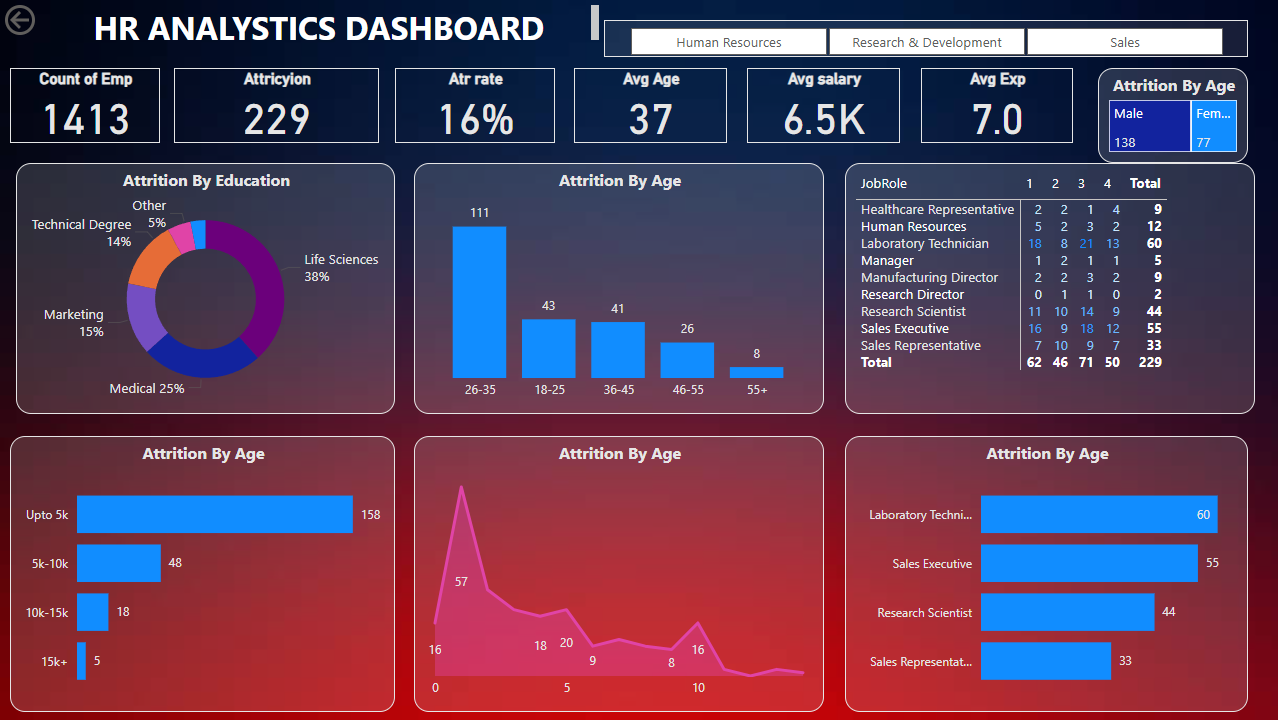

Layout of this report page (visuals, bound fields, positions):
{"tool":"powerbi","page":{"name":"Page 1","canvas":[1280,720],"ordinal":0},"visuals":[{"type":"card","title":"Count of Emp","fields":{"Values":["CountNonNull(HR_Analytics.EmpID)"]},"box":[9.7,68.5,150.1,74.6],"z":0},{"type":"card","title":"Attricyion","fields":{"Values":["Sum(HR_Analytics.Atr_count)"]},"box":[173.9,68.5,205.5,74.6],"z":1000},{"type":"card","title":"Atr rate","fields":{"Values":["HR_Analytics.Atr_rat"]},"box":[395.1,68.5,159.8,74.6],"z":2000},{"type":"card","title":"Avg Age","fields":{"Values":["Avg(HR_Analytics.Age)"]},"box":[574.2,68.5,152.8,74.6],"z":3000},{"type":"card","title":"Avg salary","fields":{"Values":["Avg(HR_Analytics.MonthlyIncome)"]},"box":[747.2,68.5,152.8,74.6],"z":4000},{"type":"card","title":"Avg Exp","fields":{"Values":["Avg(HR_Analytics.YearsAtCompany)"]},"box":[921.1,68.5,151.9,74.6],"z":5000},{"type":"actionButton","box":[0,0,100,40],"z":6000},{"type":"donutChart","title":"Attrition By Education","fields":{"Category":["HR_Analytics.EducationField"],"Y":["Sum(HR_Analytics.Atr_count)"]},"box":[15.8,163.3,379.3,250.2],"z":7000},{"type":"columnChart","title":"Attrition By Age","fields":{"Category":["HR_Analytics.AgeGroup"],"Y":["Sum(HR_Analytics.Atr_count)"]},"box":[414.4,163.3,409.2,250.2],"z":8000},{"type":"pivotTable","fields":{"Rows":["HR_Analytics.JobRole"],"Columns":["HR_Analytics.JobSatisfaction"],"Values":["Sum(HR_Analytics.Atr_count)"]},"box":[844.7,163.3,410,250.2],"z":9000},{"type":"barChart","title":"Attrition By Age","fields":{"Category":["HR_Analytics.SalarySlab"],"Y":["Sum(HR_Analytics.Atr_count)"]},"box":[9.7,436.4,385.5,275.7],"z":10000},{"type":"barChart","title":"Attrition By Age","fields":{"Category":["HR_Analytics.JobRole"],"Y":["Sum(HR_Analytics.Atr_count)"]},"box":[844.7,436.4,403,275.7],"z":11000},{"type":"stackedAreaChart","title":"Attrition By Age","fields":{"Category":["HR_Analytics.YearsAtCompany"],"Y":["Sum(HR_Analytics.Atr_count)"]},"box":[414.4,436.4,409.2,275.7],"z":12000},{"type":"treemap","title":"Attrition By Age","fields":{"Group":["HR_Analytics.Gender"],"Values":["Sum(HR_Analytics.Atr_count)"]},"box":[1098.4,68.5,149.3,94.8],"z":13000},{"type":"slicer","fields":{"Values":["HR_Analytics.Department"]},"box":[604.1,20.2,643.6,36.9],"z":14000},{"type":"textbox","box":[23.7,0,580.4,49.2],"z":15000}]}

Visuals, with their boxes in screenshot pixels (x1, y1, x2, y2), scaled from the page's 1280x720 canvas onto the 1278x720 screenshot:
"Count of Emp" card: pyautogui.locateOnScreen(10, 68, 160, 143)
"Attricyion" card: pyautogui.locateOnScreen(174, 68, 379, 143)
"Atr rate" card: pyautogui.locateOnScreen(394, 68, 554, 143)
"Avg Age" card: pyautogui.locateOnScreen(573, 68, 726, 143)
"Avg salary" card: pyautogui.locateOnScreen(746, 68, 899, 143)
"Avg Exp" card: pyautogui.locateOnScreen(920, 68, 1071, 143)
actionButton: pyautogui.locateOnScreen(0, 0, 100, 40)
"Attrition By Education" donutChart: pyautogui.locateOnScreen(16, 163, 394, 414)
"Attrition By Age" columnChart: pyautogui.locateOnScreen(414, 163, 822, 414)
pivotTable - HR_Analytics.JobRole x HR_Analytics.JobSatisfaction: pyautogui.locateOnScreen(843, 163, 1253, 414)
"Attrition By Age" barChart: pyautogui.locateOnScreen(10, 436, 395, 712)
"Attrition By Age" barChart: pyautogui.locateOnScreen(843, 436, 1246, 712)
"Attrition By Age" stackedAreaChart: pyautogui.locateOnScreen(414, 436, 822, 712)
"Attrition By Age" treemap: pyautogui.locateOnScreen(1097, 68, 1246, 163)
slicer - HR_Analytics.Department: pyautogui.locateOnScreen(603, 20, 1246, 57)
textbox: pyautogui.locateOnScreen(24, 0, 603, 49)
